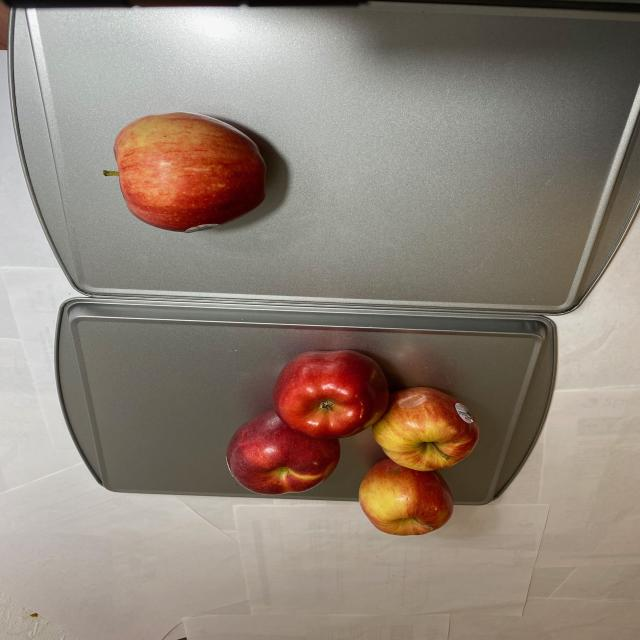apple: (220, 350, 484, 535), (99, 112, 276, 235)
